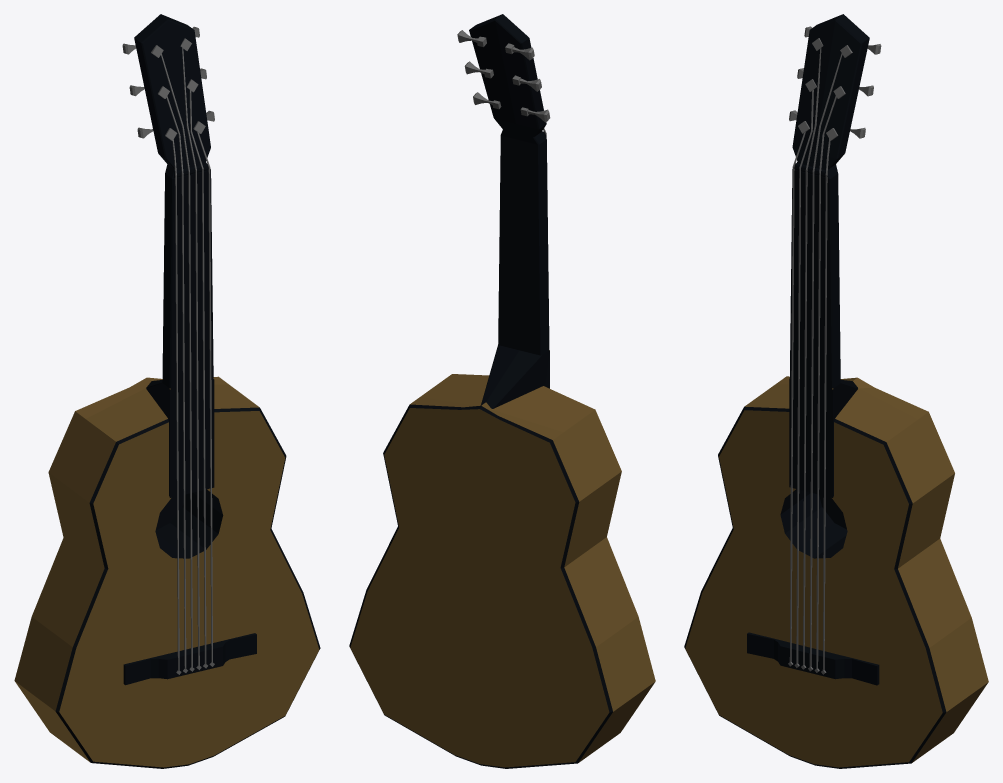
File: Guitar.glb
3 renders of one model, left to right at view 1: azimuth 30°, elevation 25°; view 2: azimuth 150°, elevation 25°; view 3: azimuth 330°, elevation 25°, orthographic.
Visible parts, largest first — view 1: Guitar1; view 2: Guitar1; view 3: Guitar1.
Boxes of the visible parts, left/top/right/bottom form: Guitar1: left=14, top=14, right=320, bottom=768; Guitar1: left=349, top=14, right=655, bottom=768; Guitar1: left=684, top=14, right=988, bottom=768.
Size of the model in its own units: 0.5787 by 1.53 by 0.1975.
